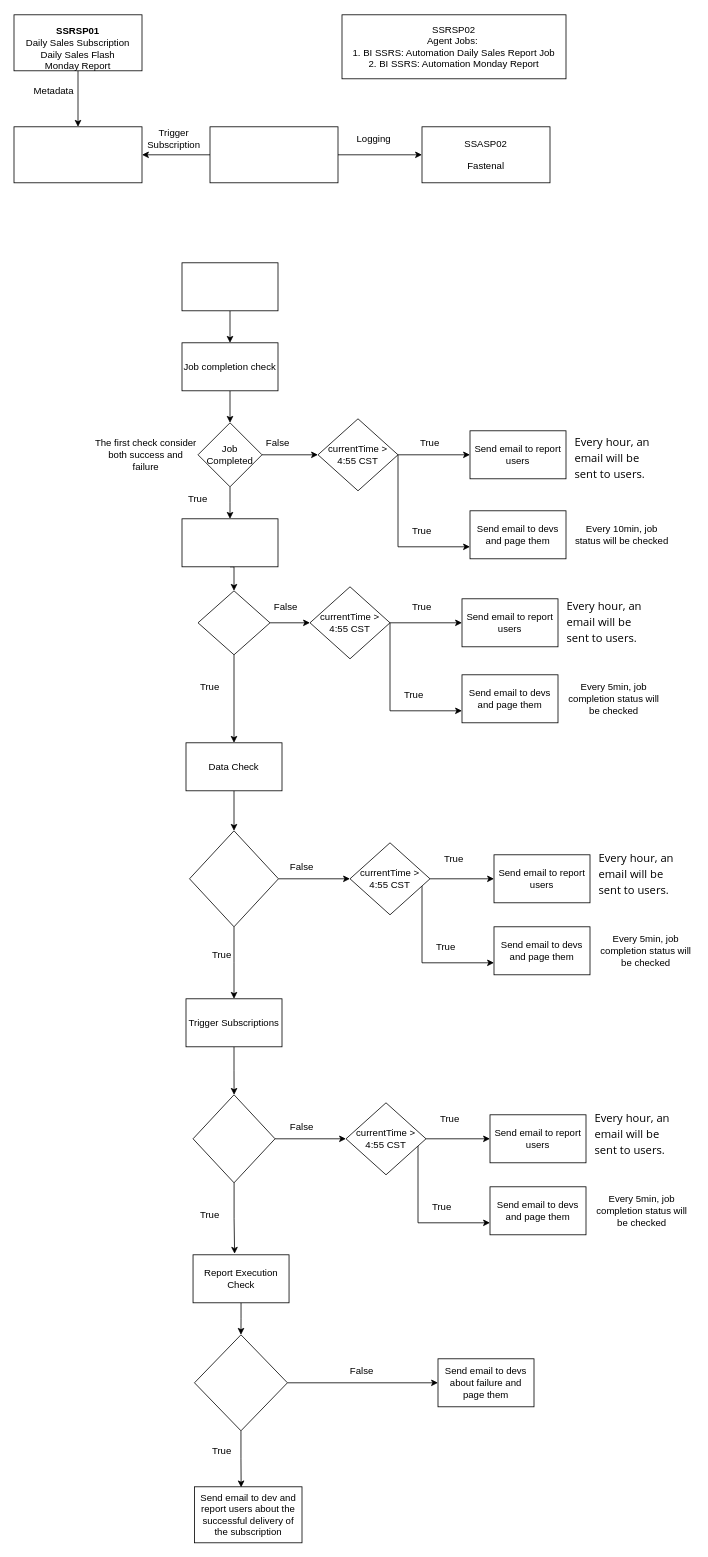
The diagram is 708 pixels wide and 1557 high, and some of its shapes have lost their labels. The shapes that lost their labels are listed below. From the top down, each one's box as (x1, y1, x2, y2) in pixels, then its label:
(13, 126, 142, 183): MSSQLP02 SSRSP01_ReportingService
(209, 126, 338, 183): MSSQLP02 msdb
(181, 262, 278, 311): Start Daily Check
(181, 518, 278, 567): Job status check
(197, 590, 270, 655): Job succeeded
(189, 830, 278, 927): Are sales positive? (Daily, MTD)
(192, 1094, 275, 1183): Subscription triggered successfully?
(194, 1334, 287, 1431): Subscription sent successfully?
